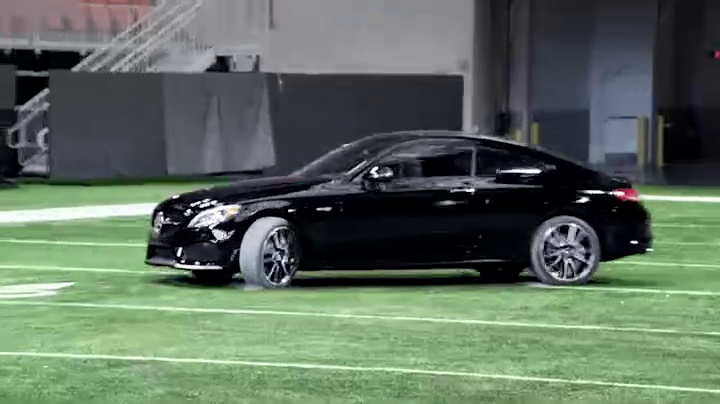amg: (143, 127, 656, 282)
